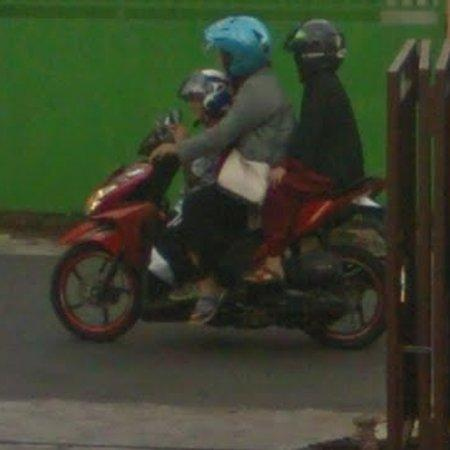motorcycles: (211, 178, 387, 348), (51, 158, 197, 341)
